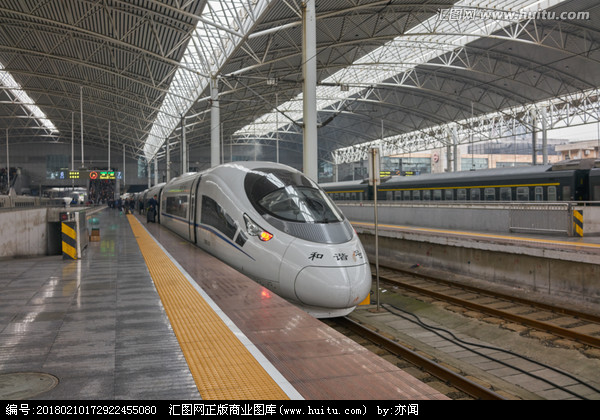hsrw: (116, 160, 373, 319)
